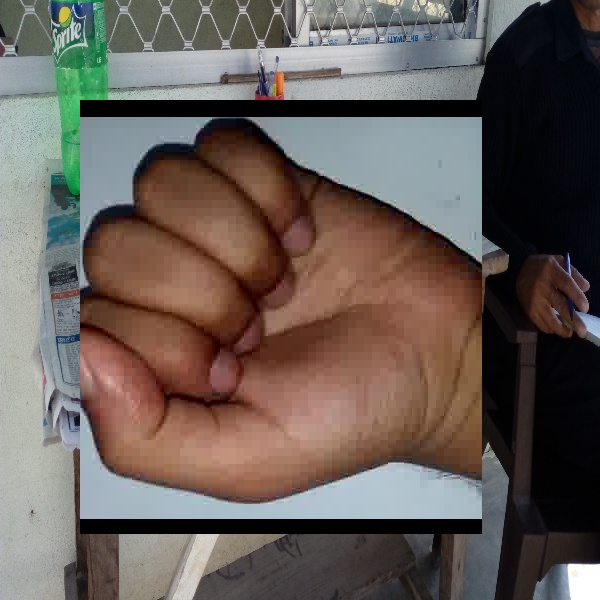A: (80, 100, 482, 534)
